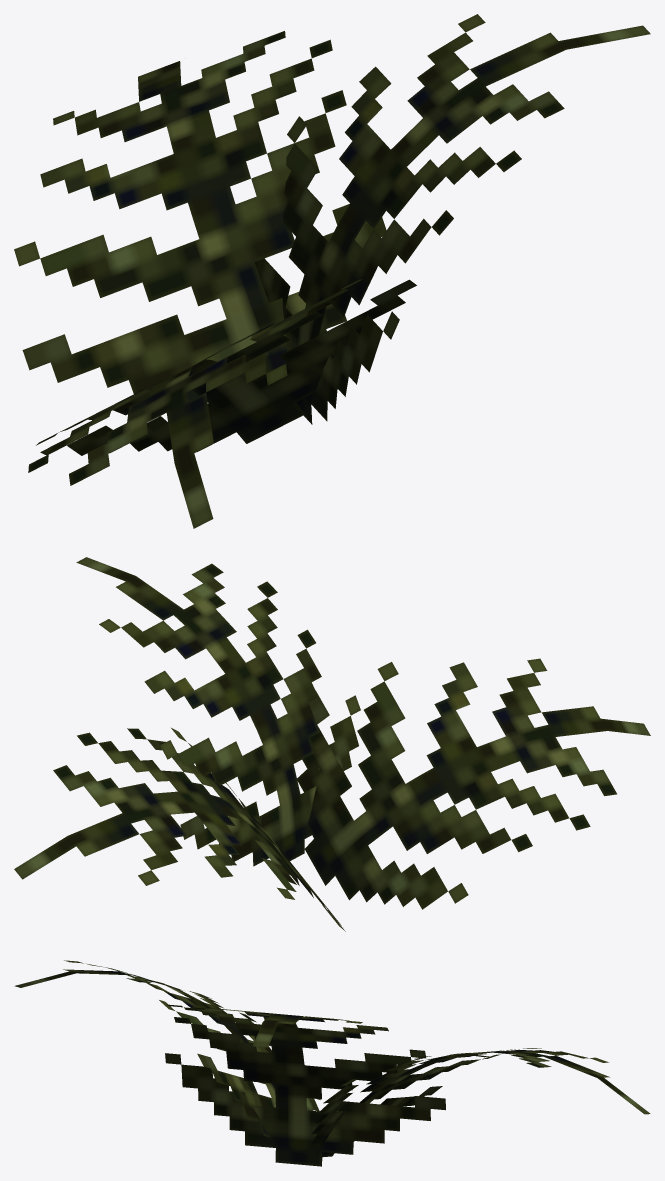
Rendered from EnvFldMD_Grass_E_Fern_MA.FBX.
3 views of the same model, one above another, from view 1: azimuth 30°, elevation 25°; view 2: azimuth 150°, elevation 25°; view 3: azimuth 270°, elevation 25° (orthographic). The views are drawn at different scales.
Parts seen in each view (by area): view 1: EnvFldMD_Grass_E_Fern_MA; view 2: EnvFldMD_Grass_E_Fern_MA; view 3: EnvFldMD_Grass_E_Fern_MA.
Boxes of the visible parts, left/top/right/bottom form: EnvFldMD_Grass_E_Fern_MA: left=14, top=14, right=650, bottom=528; EnvFldMD_Grass_E_Fern_MA: left=14, top=557, right=650, bottom=931; EnvFldMD_Grass_E_Fern_MA: left=14, top=960, right=650, bottom=1166.
Bounding box in the file's own units: 170 × 85.11 × 203.
1 material, 1 textured.
